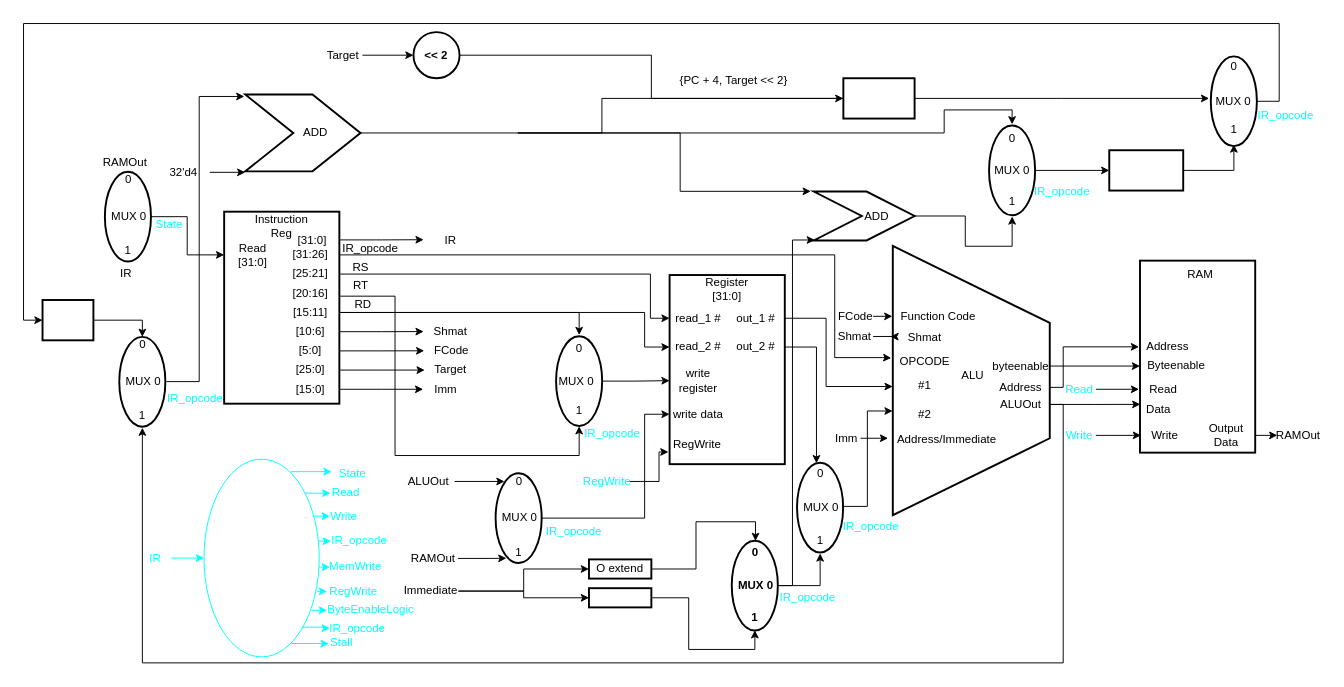
This 1344x687 diagram has some shape labels left out. The centre of each missing label's shape, as x and y in pixels:
"Bit extend" goes at pixel 620 597.
"Control" goes at pixel 261 557.
"PC" goes at pixel 67 320.
"PC_Jump" goes at pixel 878 98.
"PC_Next" goes at pixel 1146 170.
